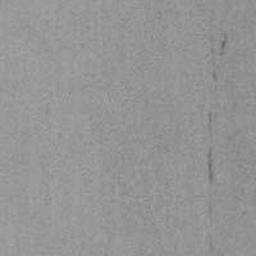Inclusion: (210, 38, 229, 56), (207, 148, 215, 182), (207, 111, 215, 137), (212, 69, 219, 79), (209, 200, 214, 214)
